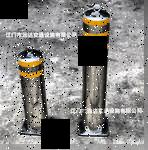bench: (74, 3, 111, 137), (12, 42, 54, 138)
